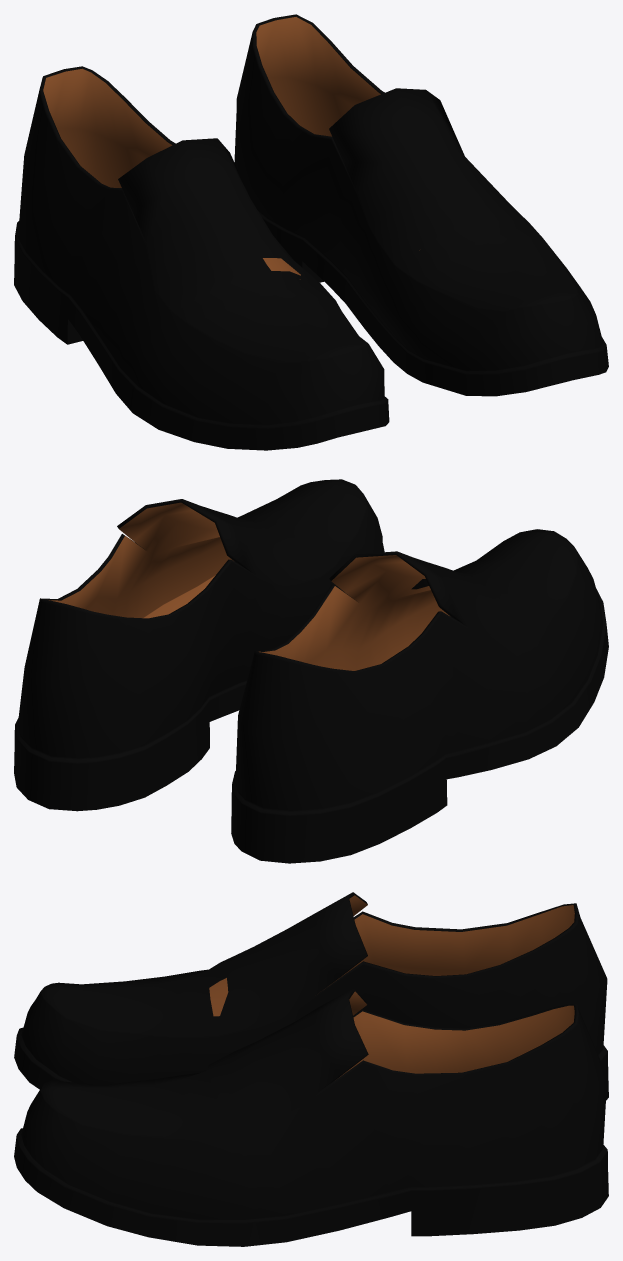
The model's file is mocassinSeparated.obj.
3 renders of one model, top to bottom at view 1: azimuth 30°, elevation 25°; view 2: azimuth 150°, elevation 25°; view 3: azimuth 270°, elevation 25°, orthographic. The views are drawn at different scales.
Visible parts, largest first — view 1: Plane.001, Plane; view 2: Plane.001, Plane; view 3: Plane, Plane.001.
Part boxes in pixels (x1,y1,x2,y2): Plane.001: [14, 66, 389, 450]; Plane: [234, 14, 608, 396]; Plane.001: [231, 529, 608, 863]; Plane: [14, 479, 384, 811]; Plane: [14, 988, 608, 1246]; Plane.001: [14, 892, 608, 1100].
Size of the model in its own units: 22.25 by 10.48 by 28.1.
